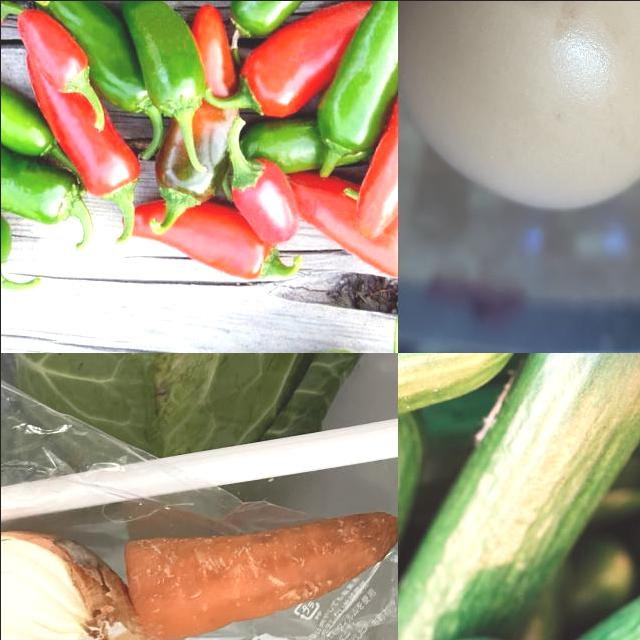cabbage: (8, 353, 398, 478)
carrot: (121, 510, 398, 640)
cucumber: (398, 353, 640, 640), (472, 353, 640, 578), (398, 353, 524, 530), (522, 563, 640, 640)
egg: (398, 1, 640, 219)
onion: (1, 527, 141, 640)
